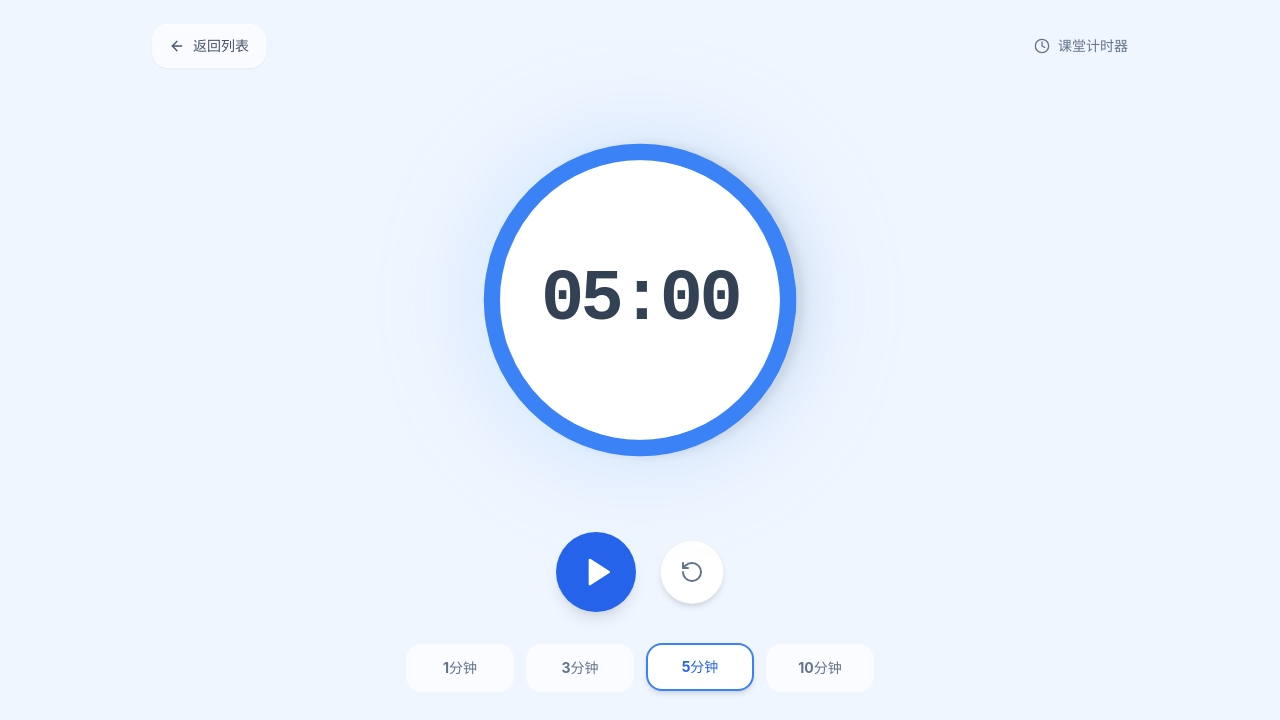
tool pages mobile smoke tests › uses elapsed wall time after a suspended tab and resumes from pause
The image size is (1280, 720).
Step 1. Click the button named "开始计时" → (596, 572), box [556,532,636,612]
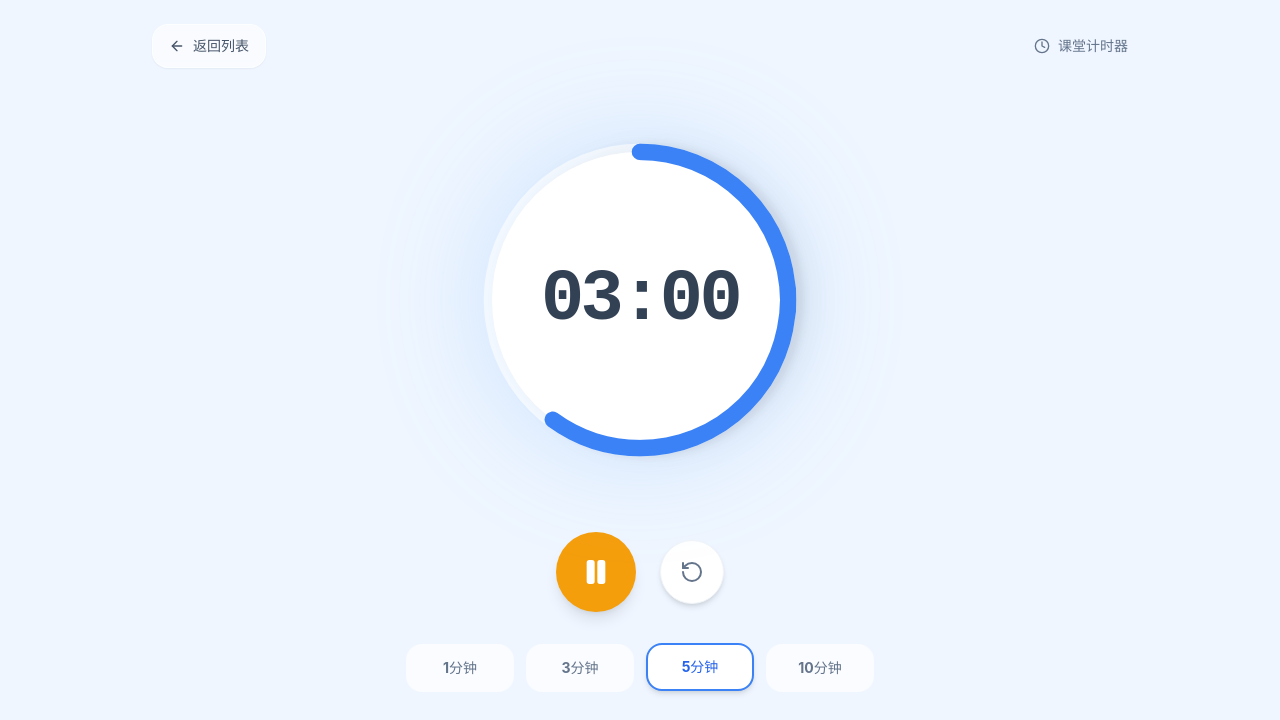
Now the text "03:00" is shown, box [541,264,739,336]
Step 2. Click the button named "暂停计时" → (596, 572), box [556,532,636,612]
Wait 60000 ms
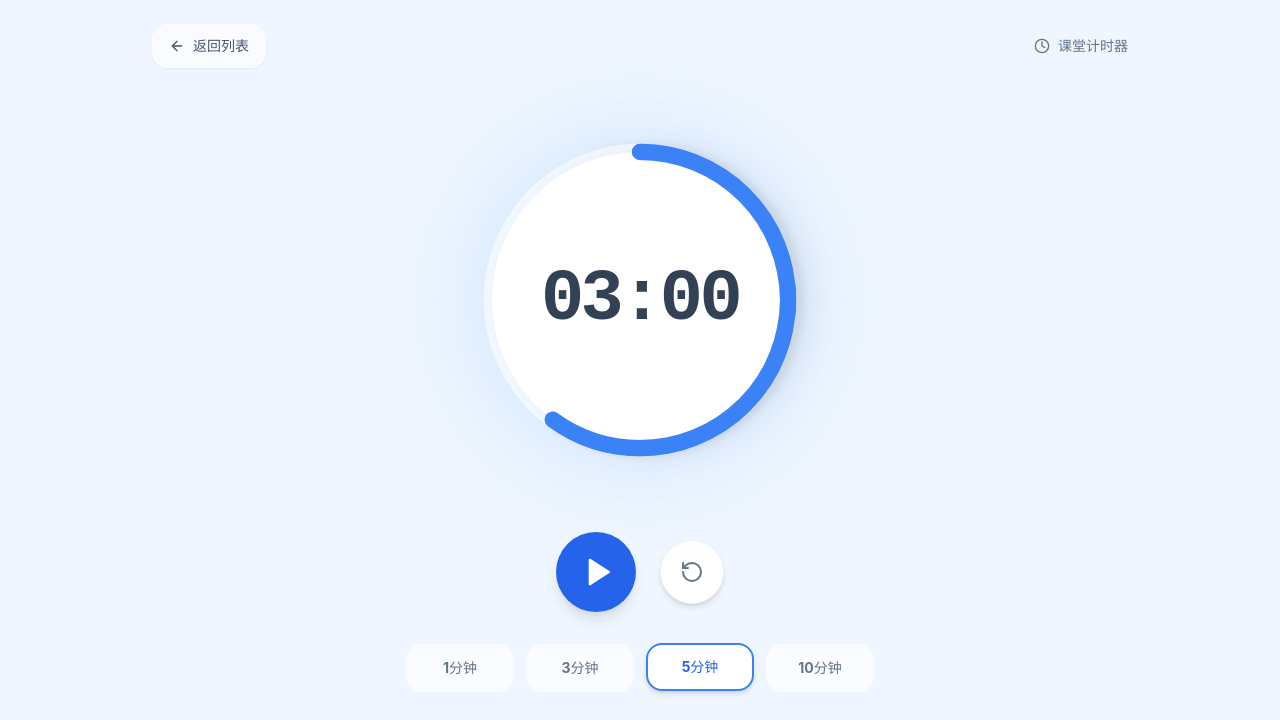
Now the text "03:00" is shown, box [541,264,739,336]
Step 3. Click the button named "开始计时" → (596, 572), box [556,532,636,612]
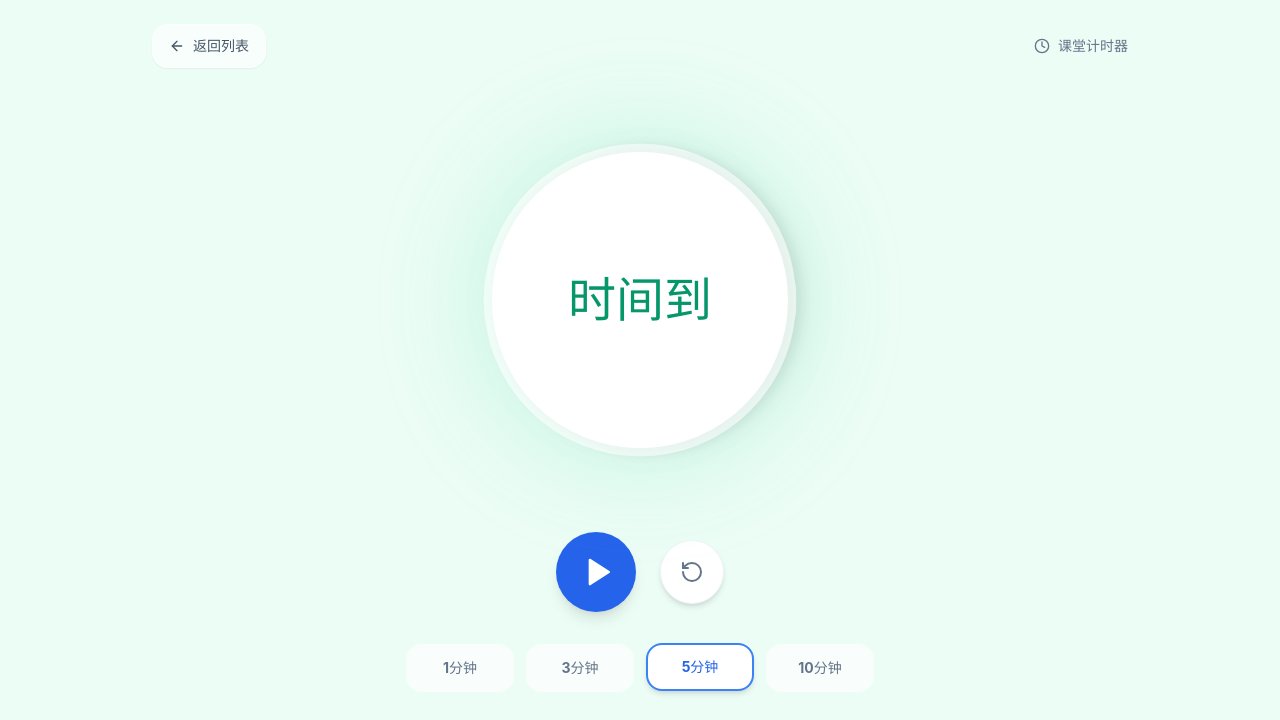
Now the message reads "时间到", box [568,270,712,329]
